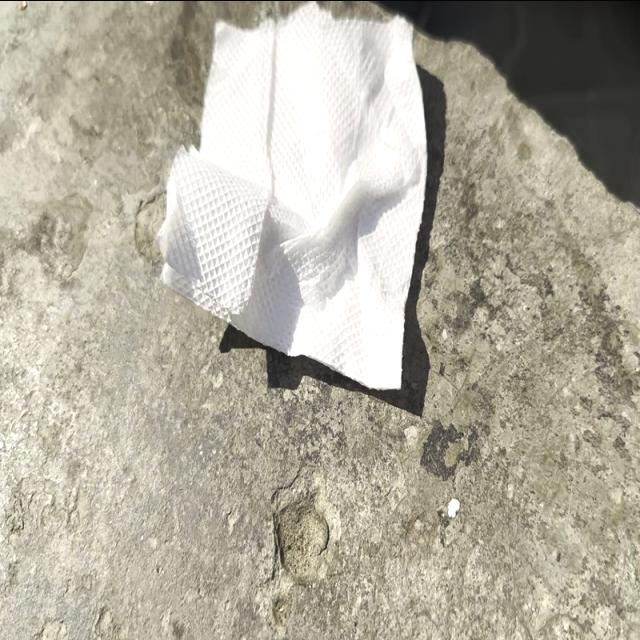tissue: (154, 6, 423, 395)
